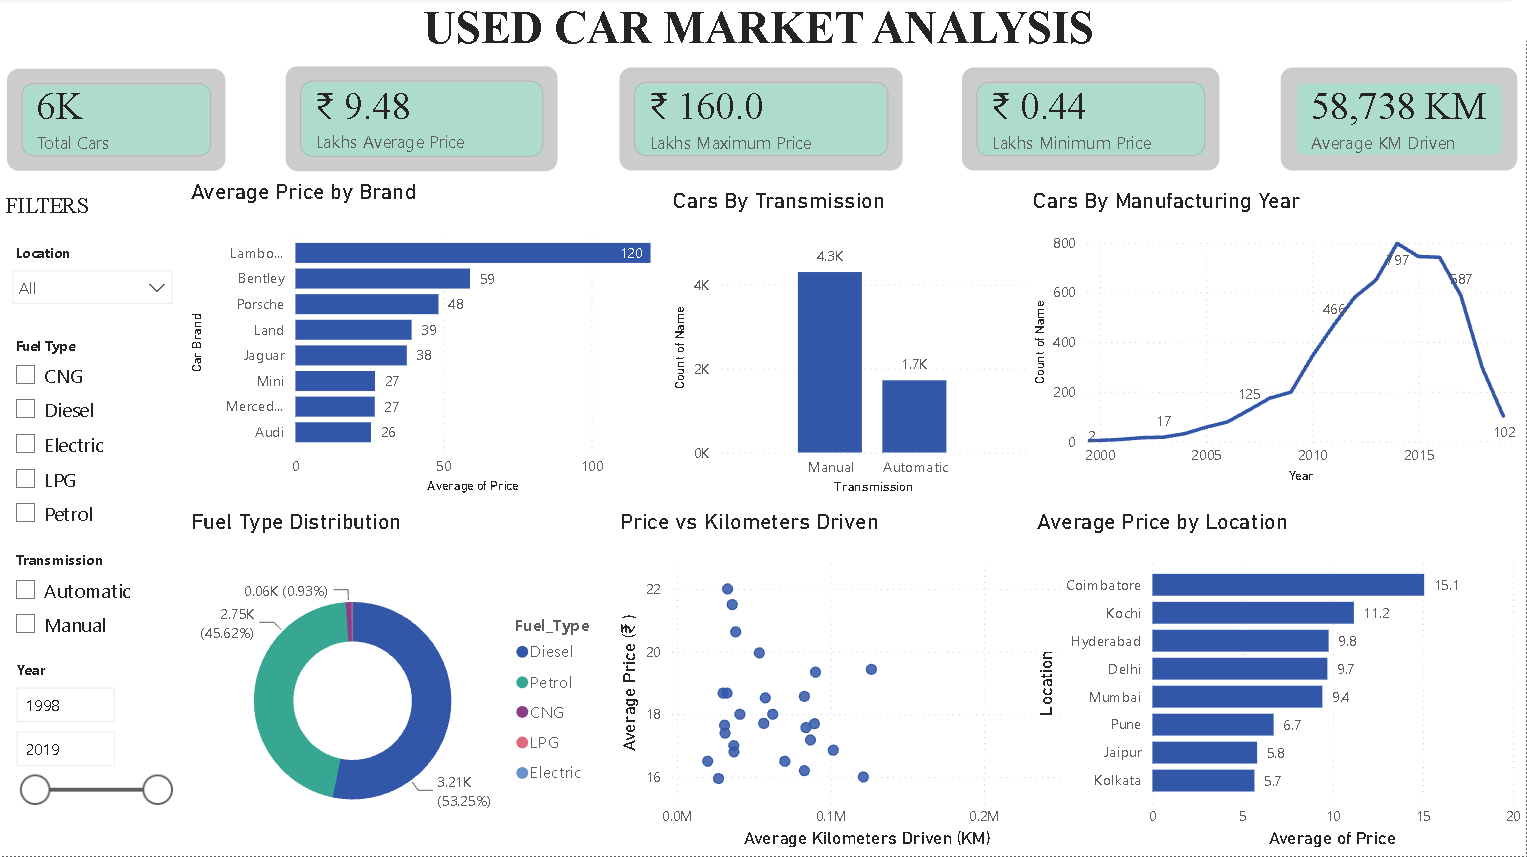

The dashboard page shown, as its layout file describes it:
{"tool":"powerbi","page":{"name":"Page 1","canvas":[1280,720],"ordinal":0},"visuals":[{"type":"textbox","box":[0,89.5,154.7,629.1],"z":0},{"type":"cardVisual","fields":{"Data":["train-data (2).Total Cars"]},"box":[1,54,193.9,95.4],"z":1000},{"type":"cardVisual","title":"Average Selling Price","fields":{"Data":["train-data (2).Average Price Display"]},"box":[235.3,52.6,238.6,98.4],"z":2000},{"type":"cardVisual","fields":{"Data":["train-data (2).MAX PRICE DISPLAY"]},"box":[514.3,53.7,247.6,96.1],"z":3000},{"type":"cardVisual","fields":{"Data":["train-data (2).MIN SEL PR"]},"box":[802.2,53.5,226.7,96.5],"z":4000},{"type":"cardVisual","fields":{"Data":["train-data (2).Average KM Driven"]},"box":[1069.3,53.5,208.6,96.4],"z":5000},{"type":"clusteredBarChart","title":"Average Price by Brand","fields":{"Category":["train-data (2).Car Brand"],"Y":["Avg(train-data (2).Price)"]},"box":[154.7,152.3,404.7,268.4],"z":6000},{"type":"donutChart","title":"Fuel Type Distribution","fields":{"Category":["train-data (2).Fuel_Type"],"Y":["CountNonNull(train-data (2).Name)"]},"box":[155.2,428.8,359.6,289.3],"z":7000},{"type":"clusteredColumnChart","title":"Cars By Transmission","fields":{"Category":["train-data (2).Transmission"],"Y":["CountNonNull(train-data (2).Name)"]},"box":[559.3,159.3,305.8,261.6],"z":8000},{"type":"lineChart","title":"Cars By Manufacturing Year","fields":{"Category":["train-data (2).Year"],"Y":["CountNonNull(train-data (2).Name)"]},"box":[861.6,159.3,416.3,252.3],"z":9000},{"type":"barChart","title":"Average Price by Location","fields":{"Category":["train-data (2).Location"],"Y":["Avg(train-data (2).Price)"]},"box":[864.9,428.8,415.1,289.3],"z":10000},{"type":"scatterChart","title":"Price vs Kilometers Driven","fields":{"X":["Avg(train-data (2).Kilometers_Driven)"],"Y":["Avg(train-data (2).Price)"],"Category":["train-data (2).Name"]},"box":[514.7,428.8,393.1,289.3],"z":11000},{"type":"textbox","box":[0,0,1280.2,44.2],"z":12000},{"type":"textbox","box":[0,159.4,153.8,560.8],"z":12500},{"type":"slicer","fields":{"Values":["train-data (2).Location"]},"box":[0,201.3,154.7,73.3],"z":13000},{"type":"slicer","fields":{"Values":["train-data (2).Fuel_Type"]},"box":[0,279,154.7,174.4],"z":14000},{"type":"slicer","fields":{"Values":["train-data (2).Transmission"]},"box":[0,457.8,154.7,88.4],"z":15000},{"type":"slicer","fields":{"Values":["train-data (2).Year"]},"box":[1.1,550.6,152.3,137.2],"z":17500}]}

Visuals, with their boxes in screenshot pixels (x1, y1, x2, y2), scaled from the page's 1280x720 canvas onto the 1527x857 screenshot:
textbox: locate(0, 107, 185, 855)
cardVisual - train-data (2).Total Cars: locate(1, 64, 233, 178)
"Average Selling Price" cardVisual: locate(281, 63, 565, 180)
cardVisual - train-data (2).MAX PRICE DISPLAY: locate(614, 64, 909, 178)
cardVisual - train-data (2).MIN SEL PR: locate(957, 64, 1227, 179)
cardVisual - train-data (2).Average KM Driven: locate(1276, 64, 1524, 178)
"Average Price by Brand" clusteredBarChart: locate(185, 181, 667, 501)
"Fuel Type Distribution" donutChart: locate(185, 510, 614, 855)
"Cars By Transmission" clusteredColumnChart: locate(667, 190, 1032, 501)
"Cars By Manufacturing Year" lineChart: locate(1028, 190, 1524, 490)
"Average Price by Location" barChart: locate(1032, 510, 1526, 855)
"Price vs Kilometers Driven" scatterChart: locate(614, 510, 1083, 855)
textbox: locate(0, 0, 1526, 53)
textbox: locate(0, 190, 183, 856)
slicer - train-data (2).Location: locate(0, 240, 185, 327)
slicer - train-data (2).Fuel_Type: locate(0, 332, 185, 540)
slicer - train-data (2).Transmission: locate(0, 545, 185, 650)
slicer - train-data (2).Year: locate(1, 655, 183, 819)
